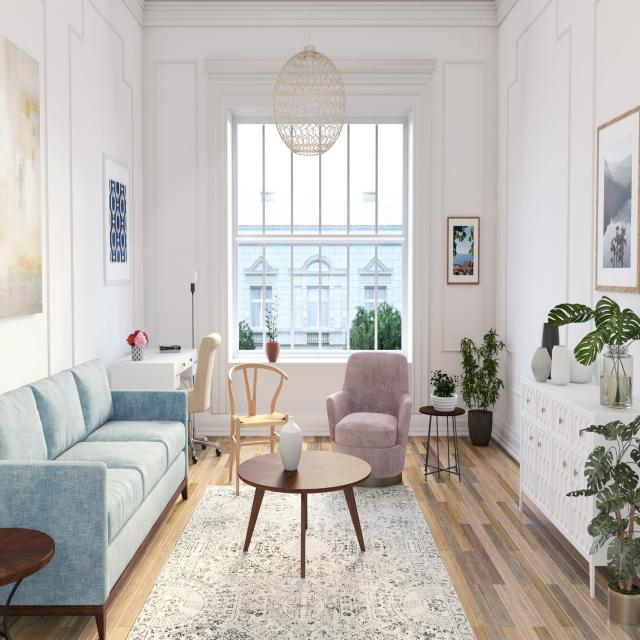modern chair: (321, 342, 414, 489)
modern desk: (233, 440, 370, 581)
modern sofa: (1, 352, 189, 640)
